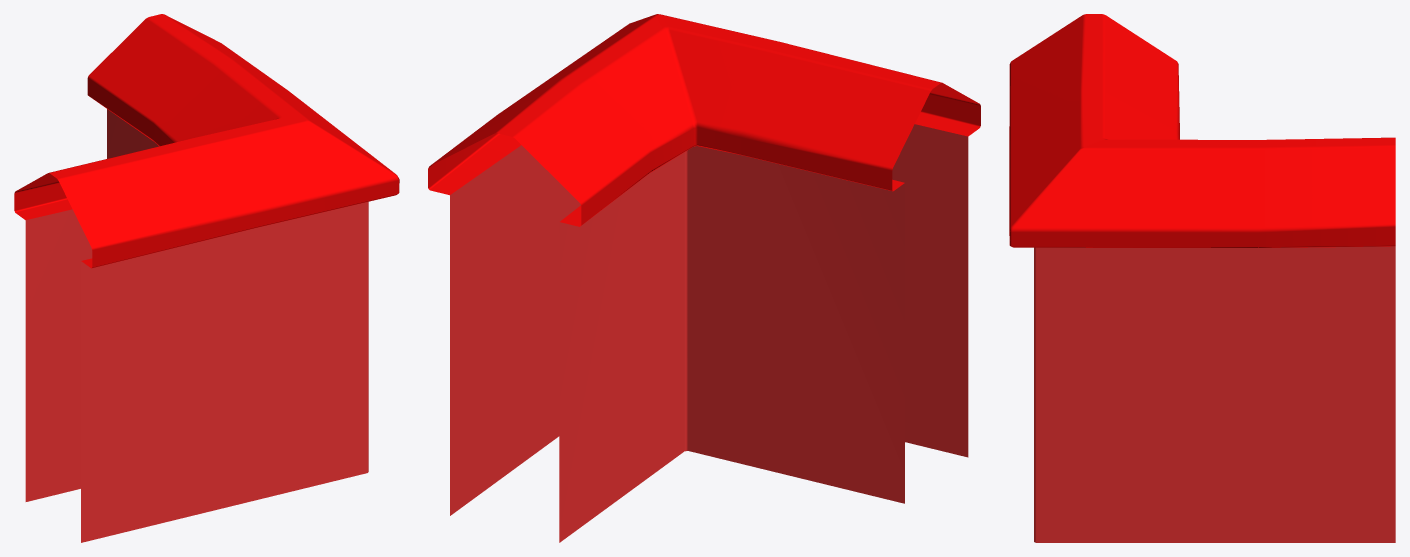
File: Parapet_Corner.fbx
The picture shows the model from 3 angles, left to right: view 1: azimuth 30°, elevation 25°; view 2: azimuth 150°, elevation 25°; view 3: azimuth 270°, elevation 25°; orthographic projection. The views are drawn at different scales.
Visible parts, largest first — view 1: Parapet_Corner VC; view 2: Parapet_Corner VC; view 3: Parapet_Corner VC.
Boxes of the visible parts, x1,y1,x2,y2 form: Parapet_Corner VC: [14, 14, 399, 542]; Parapet_Corner VC: [428, 14, 980, 542]; Parapet_Corner VC: [1009, 14, 1395, 542].
Bounding box in the file's own units: 162 × 172 × 160.
